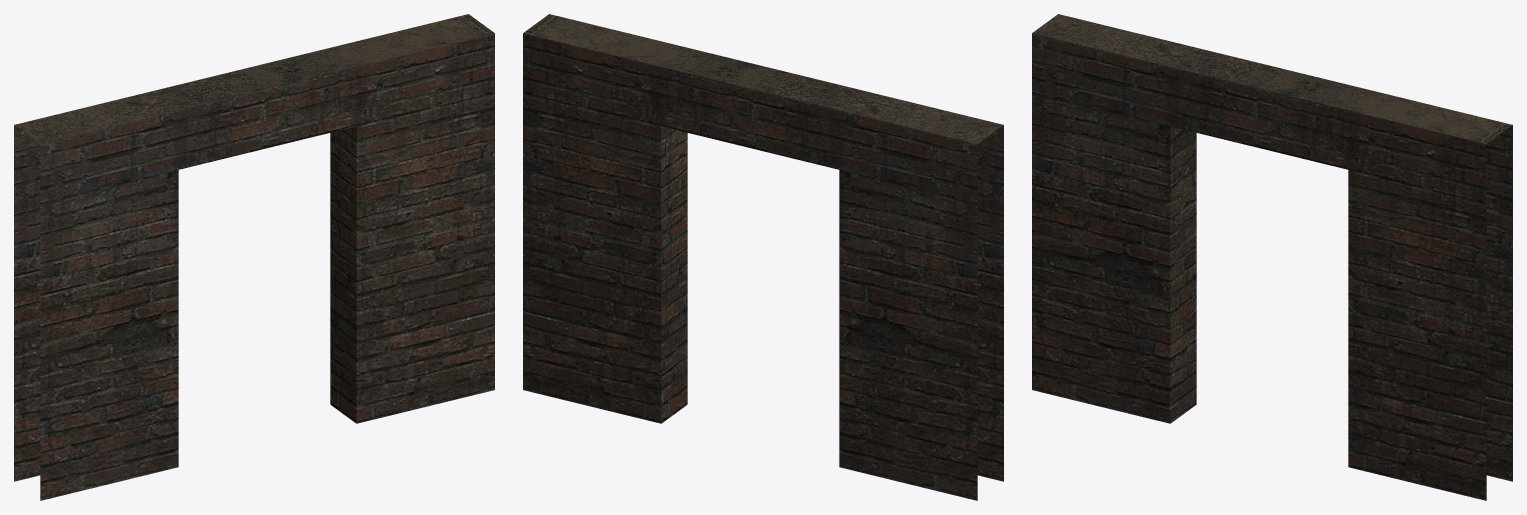
File: doorway_hs_1_wide.dae
3 views of the same model, side by side, from view 1: azimuth 30°, elevation 25°; view 2: azimuth 150°, elevation 25°; view 3: azimuth 330°, elevation 25° (orthographic).
Visible parts, largest first — view 1: doorway_hs_1_wide; view 2: doorway_hs_1_wide; view 3: doorway_hs_1_wide.
Part boxes in pixels (x1,y1,x2,y2): doorway_hs_1_wide: [14, 14, 494, 500]; doorway_hs_1_wide: [523, 14, 1003, 500]; doorway_hs_1_wide: [1032, 14, 1512, 500].
Size of the model in its own units: 4 by 0.4 by 3.
2 materials, 2 textured.
